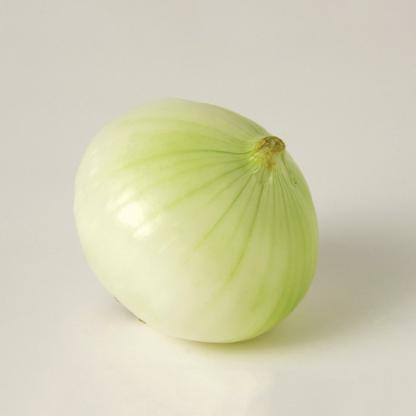onion: (82, 83, 332, 348)
